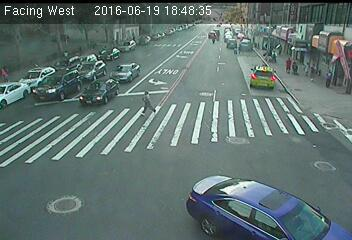neg: (34, 56, 51, 78), (218, 179, 234, 200), (117, 42, 132, 62), (208, 32, 220, 47), (224, 34, 235, 50), (267, 191, 278, 206)
pos: (138, 90, 155, 114), (280, 54, 297, 76), (321, 69, 336, 89), (291, 61, 302, 76), (271, 49, 279, 61)
